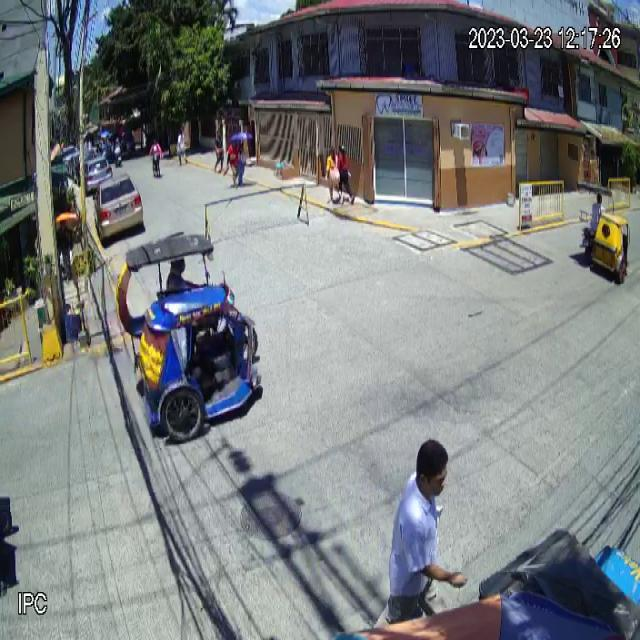Car: (93, 172, 143, 241)
Tricycle: (118, 231, 261, 443), (574, 180, 630, 284)
